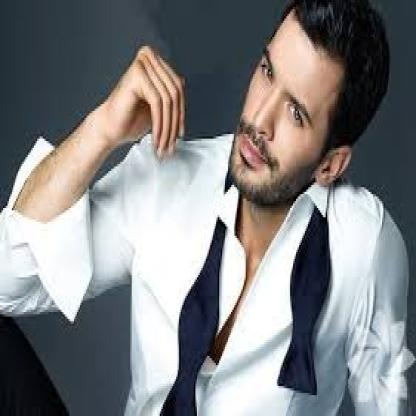person: (232, 4, 375, 197)
